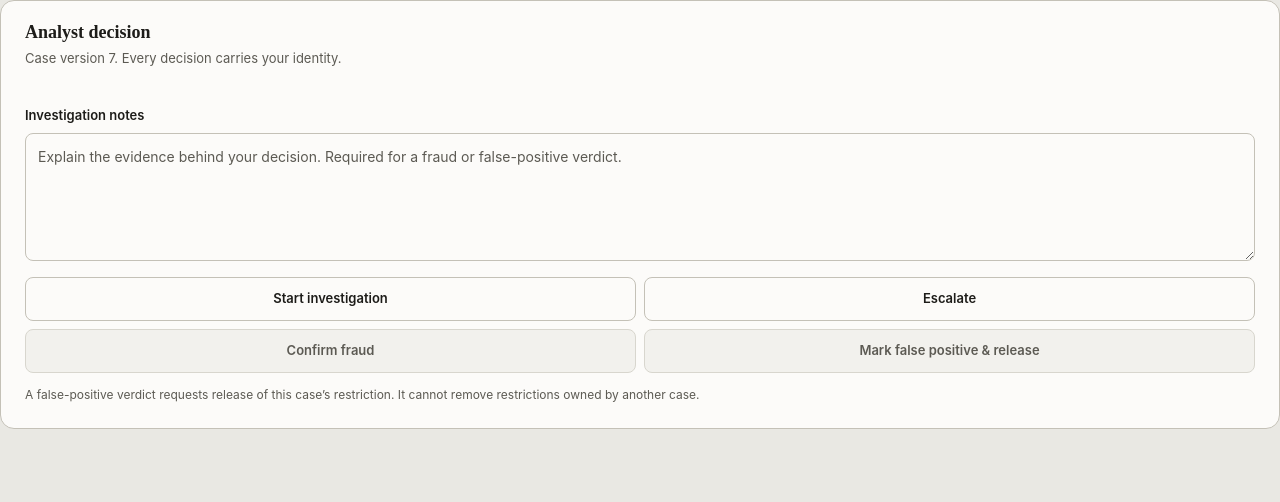
Test case: displays a service failure while preserving investigation notes
Replace the text in the text box with "Evidence retained" at x=640, y=197, box top-left (25, 133), bottom-right (1255, 261)
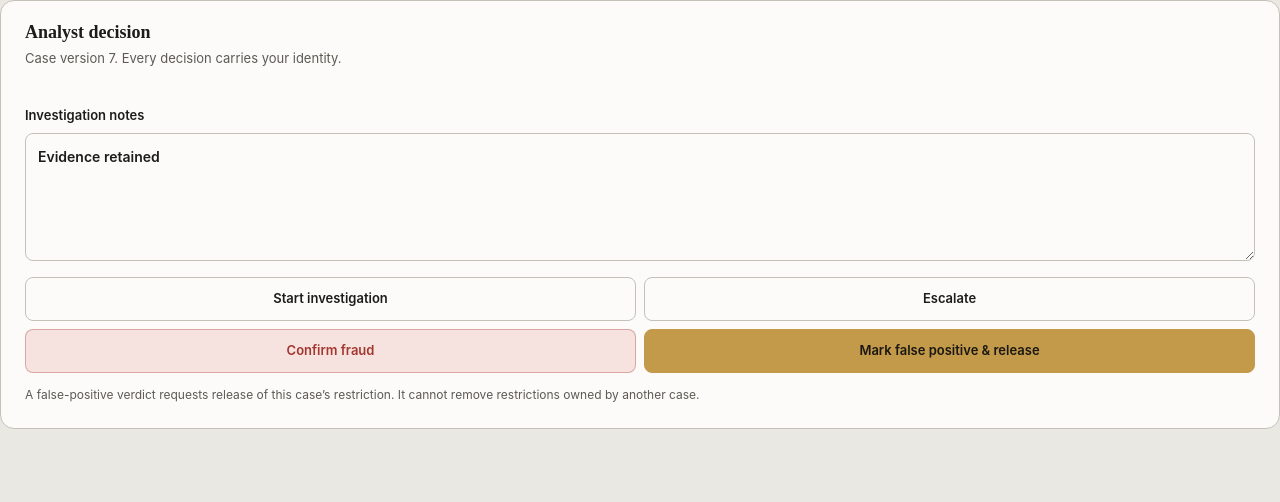
Click the button "Confirm fraud" at x=330, y=351, box top-left (25, 329), bottom-right (636, 373)
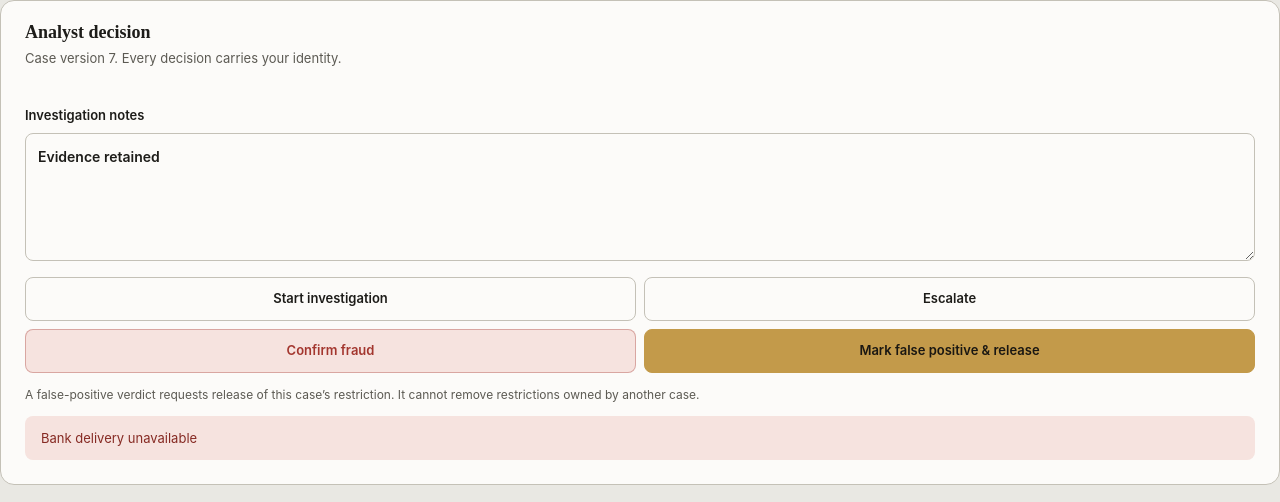
Result: the message "Bank delivery unavailable" is shown at top-left (25, 416), bottom-right (1255, 460)
